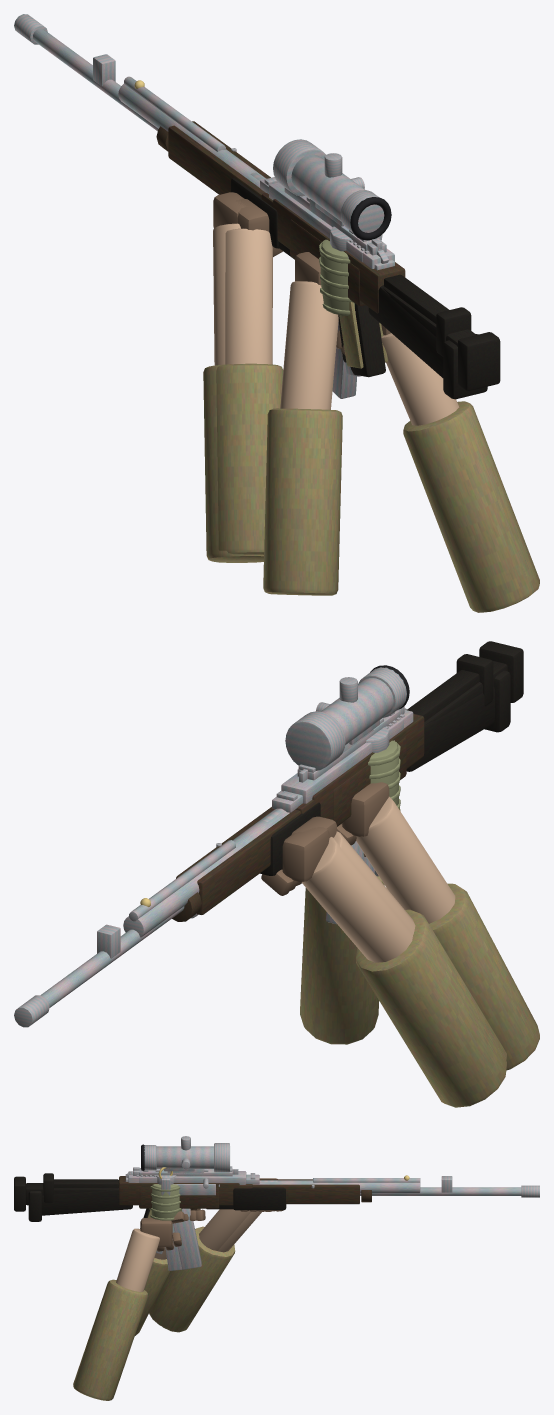
File: viewmodels.glb
3 renders of one model, top to bottom at view 1: azimuth 30°, elevation 25°; view 2: azimuth 150°, elevation 25°; view 3: azimuth 270°, elevation 25°, orthographic. The views are drawn at different scales.
Visible parts, largest first — view 1: FPSleeveR, FPSleeveL, FPSleeveL.003, FPArmL.003, FPArmL, FPArmR, FPSleeveL.001, RifleHG, SGStock, ScopeTube, RiflePad, FPArmL.001 (+22 smaller); view 2: FPSleeveL.001, FPSleeveR, FPSleeveL, FPArmL.001, FPArmL, RifleHG, SGStock, ScopeObj, ScopeTube, SGBarrel, FPPalmL.001, RifleBarrel (+19 smaller); view 3: FPSleeveR, FPSleeveL.003, FPArmR, RifleHG, SGStock, FPSleeveL.001, SGPump, ScopeTube, FPArmL.003, SGBarrel, RifleMag, RifleBarrel (+17 smaller).
Part boxes in pixels (bbox=[...]): FPSleeveR: bbox=[403, 401, 539, 612]; FPSleeveL: bbox=[263, 408, 342, 595]; FPSleeveL.003: bbox=[216, 363, 283, 554]; FPArmL.003: bbox=[225, 228, 272, 364]; FPArmL: bbox=[280, 281, 338, 409]; FPArmR: bbox=[381, 333, 458, 425]; FPSleeveL.001: bbox=[203, 364, 263, 562]; RifleHG: bbox=[168, 121, 270, 197]; SGStock: bbox=[368, 285, 443, 377]; ScopeTube: bbox=[291, 154, 364, 221]; RiflePad: bbox=[458, 332, 500, 390]; FPArmL.001: bbox=[213, 223, 240, 365]; FPSleeveL.001: bbox=[356, 921, 506, 1107]; FPSleeveR: bbox=[300, 876, 384, 1044]; FPSleeveL: bbox=[429, 883, 539, 1070]; FPArmL.001: bbox=[301, 837, 412, 962]; FPArmL: bbox=[356, 796, 455, 923]; RifleHG: bbox=[176, 807, 301, 914]; SGStock: bbox=[406, 686, 494, 771]; ScopeObj: bbox=[285, 711, 345, 770]; ScopeTube: bbox=[321, 678, 393, 744]; SGBarrel: bbox=[123, 808, 289, 937]; FPPalmL.001: bbox=[282, 827, 329, 881]; RifleBarrel: bbox=[40, 906, 184, 1007]; FPSleeveR: bbox=[73, 1279, 148, 1400]; FPSleeveL.003: bbox=[149, 1226, 216, 1329]; FPArmR: bbox=[116, 1228, 159, 1291]; RifleHG: bbox=[252, 1179, 359, 1203]; SGStock: bbox=[42, 1188, 132, 1215]; FPSleeveL.001: bbox=[163, 1244, 235, 1332]; SGPump: bbox=[233, 1187, 286, 1210]; ScopeTube: bbox=[156, 1146, 213, 1168]; FPArmL.003: bbox=[199, 1209, 250, 1250]; SGBarrel: bbox=[253, 1180, 420, 1193]; RifleMag: bbox=[173, 1208, 201, 1269]; RifleBarrel: bbox=[360, 1187, 521, 1195].
Bounding box in the file's own units: 0.2524 × 0.3908 × 0.786.
15 materials, 8 textured.
